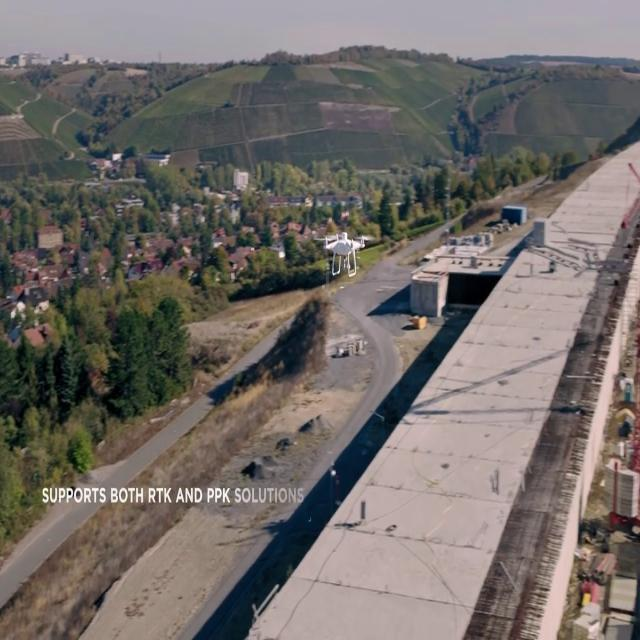drone: (312, 229, 375, 277)
